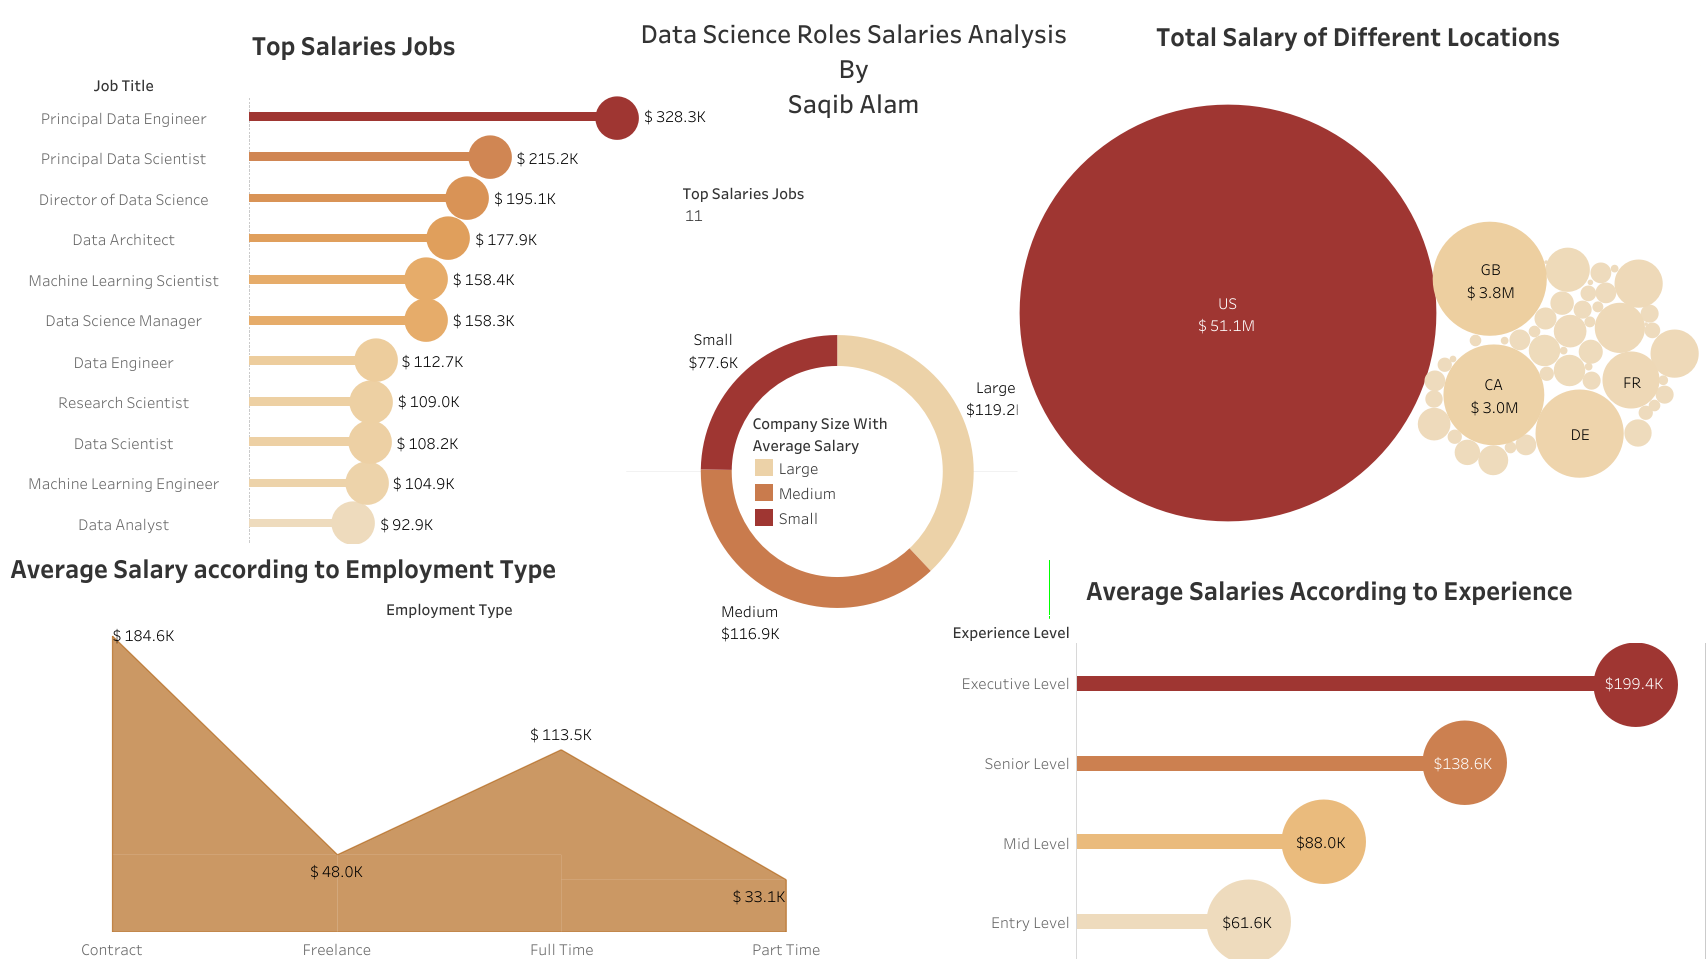

The dashboard page shown, as its layout file describes it:
{"tool":"tableau","page":{"name":"Dashboard 1","canvas":[1366,768],"ordinal":0},"visuals":[{"type":"title","box":[8,8,1350,113]},{"type":"worksheet","title":"Salary wrt Location","mark":"Circle","box":[813.7,9,545.4,437.7]},{"type":"legend","title":"Salary wrt Location","param":"[federated.1xmh32m0oh5w951dyxr6u1x5vqa8].[sum:salary_in_usd:qk]","box":[1140.8,62.3,120.8,79.4]},{"type":"parameter","param":"[Parameters].[Salary In Usd Parameter]","box":[546,144,134,64]},{"type":"worksheet","title":"Salary wrt Comp. Size","mark":"Pie","rows":["Calculation_1374723848036331526","Calculation_1374723848036331526"],"box":[501.3,199.4,337.4,355.6]},{"type":"legend","title":"Salary wrt Comp. Size","param":"[federated.1xmh32m0oh5w951dyxr6u1x5vqa8].[none:company_size:nk]","box":[601,327,153,164]},{"type":"worksheet","title":"Salary wrt Employment type","mark":"Area","rows":["salary_in_usd"],"cols":["employment_type"],"box":[0,434.1,718.8,333.9]},{"type":"worksheet","title":"Salary wrt Experience","mark":"Automatic","rows":["experience_level"],"cols":["salary_in_usd","salary_in_usd"],"box":[761,452,605,318]}]}

Visuals, with their boxes in screenshot pixels (x1, y1, x2, y2), scaled from the page's 1366x768 canvas onto the 1706x959 screenshot:
title: (x1=10, y1=10, x2=1696, y2=151)
"Salary wrt Location" worksheet (Circle marks): (x1=1016, y1=11, x2=1697, y2=558)
"Salary wrt Location" legend: (x1=1425, y1=78, x2=1576, y2=177)
parameter: (x1=682, y1=180, x2=849, y2=260)
"Salary wrt Comp. Size" worksheet (Pie marks): (x1=626, y1=249, x2=1047, y2=693)
"Salary wrt Comp. Size" legend: (x1=751, y1=408, x2=942, y2=613)
"Salary wrt Employment type" worksheet (Area marks): (x1=0, y1=542, x2=898, y2=958)
"Salary wrt Experience" worksheet: (x1=950, y1=564, x2=1705, y2=958)
